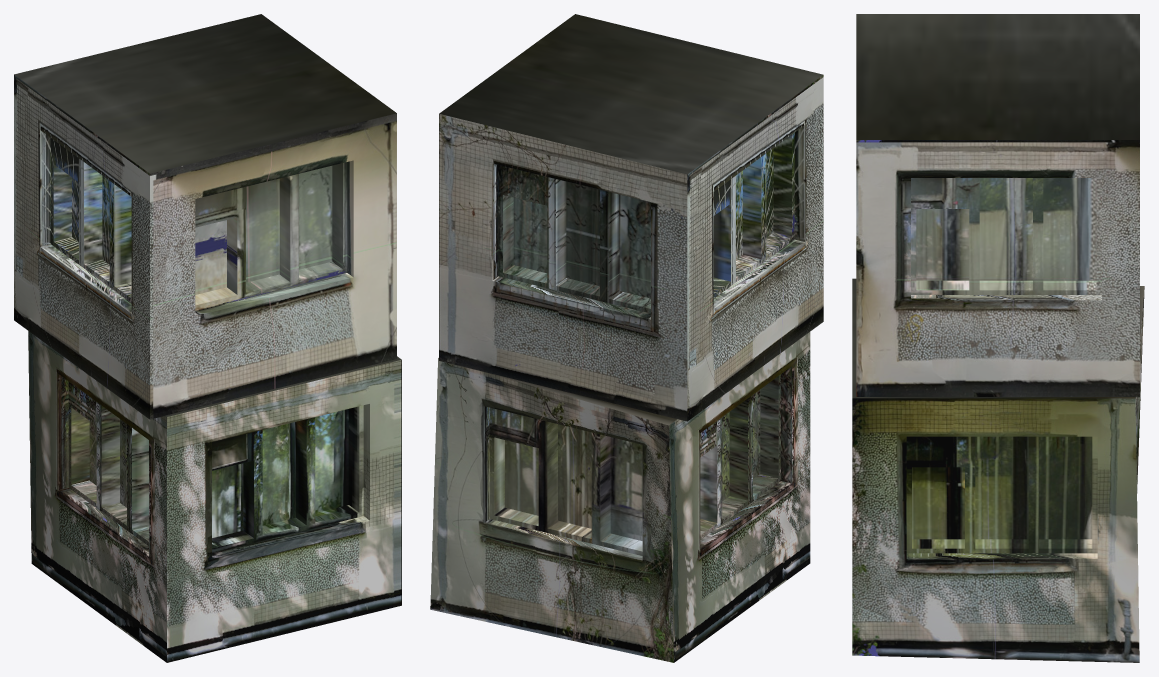
The model's file is PanelkaCubes.fbx.
3 renders of one model, left to right at view 1: azimuth 30°, elevation 25°; view 2: azimuth 150°, elevation 25°; view 3: azimuth 270°, elevation 25°, orthographic. The views are drawn at different scales.
Parts seen in each view (by area): view 1: Panelka1, Panelka2; view 2: Panelka1, Panelka2; view 3: Panelka1, Panelka2.
Part boxes in pixels (<box>): Panelka1: <box>14,14,396,419</box>; Panelka2: <box>28,331,401,662</box>; Panelka1: <box>439,14,823,421</box>; Panelka2: <box>430,332,810,662</box>; Panelka1: <box>856,14,1139,397</box>; Panelka2: <box>852,278,1144,662</box>.
Bounding box in the file's own units: 22.78 × 42.16 × 21.54.
Materials: 1 (1 with a texture image).
